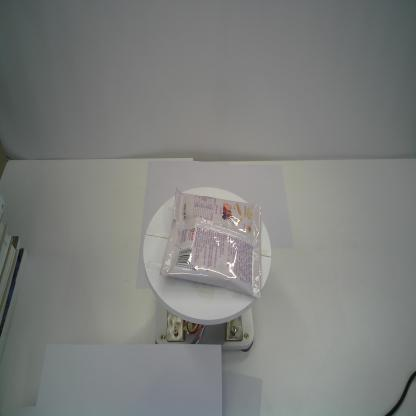Instant Drink: (158, 187, 262, 299)
